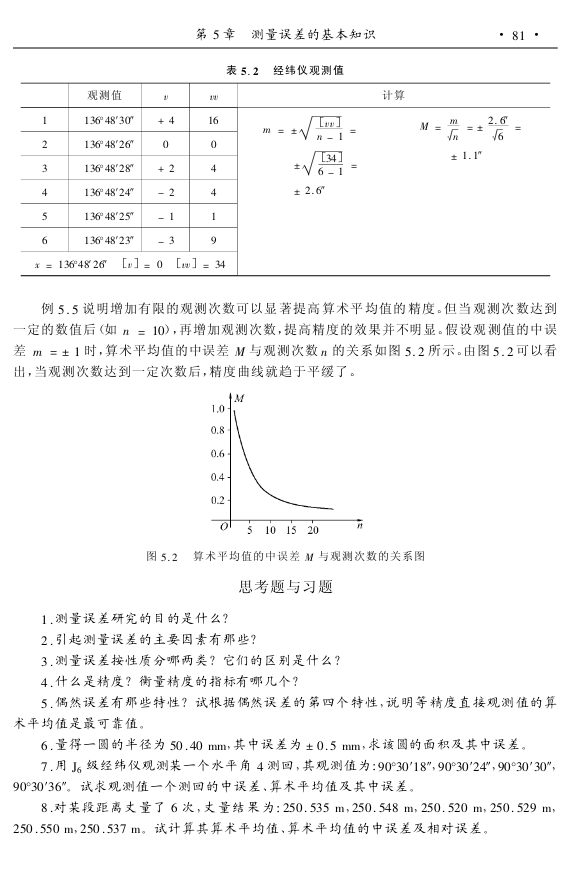table: (19, 81, 549, 276)
